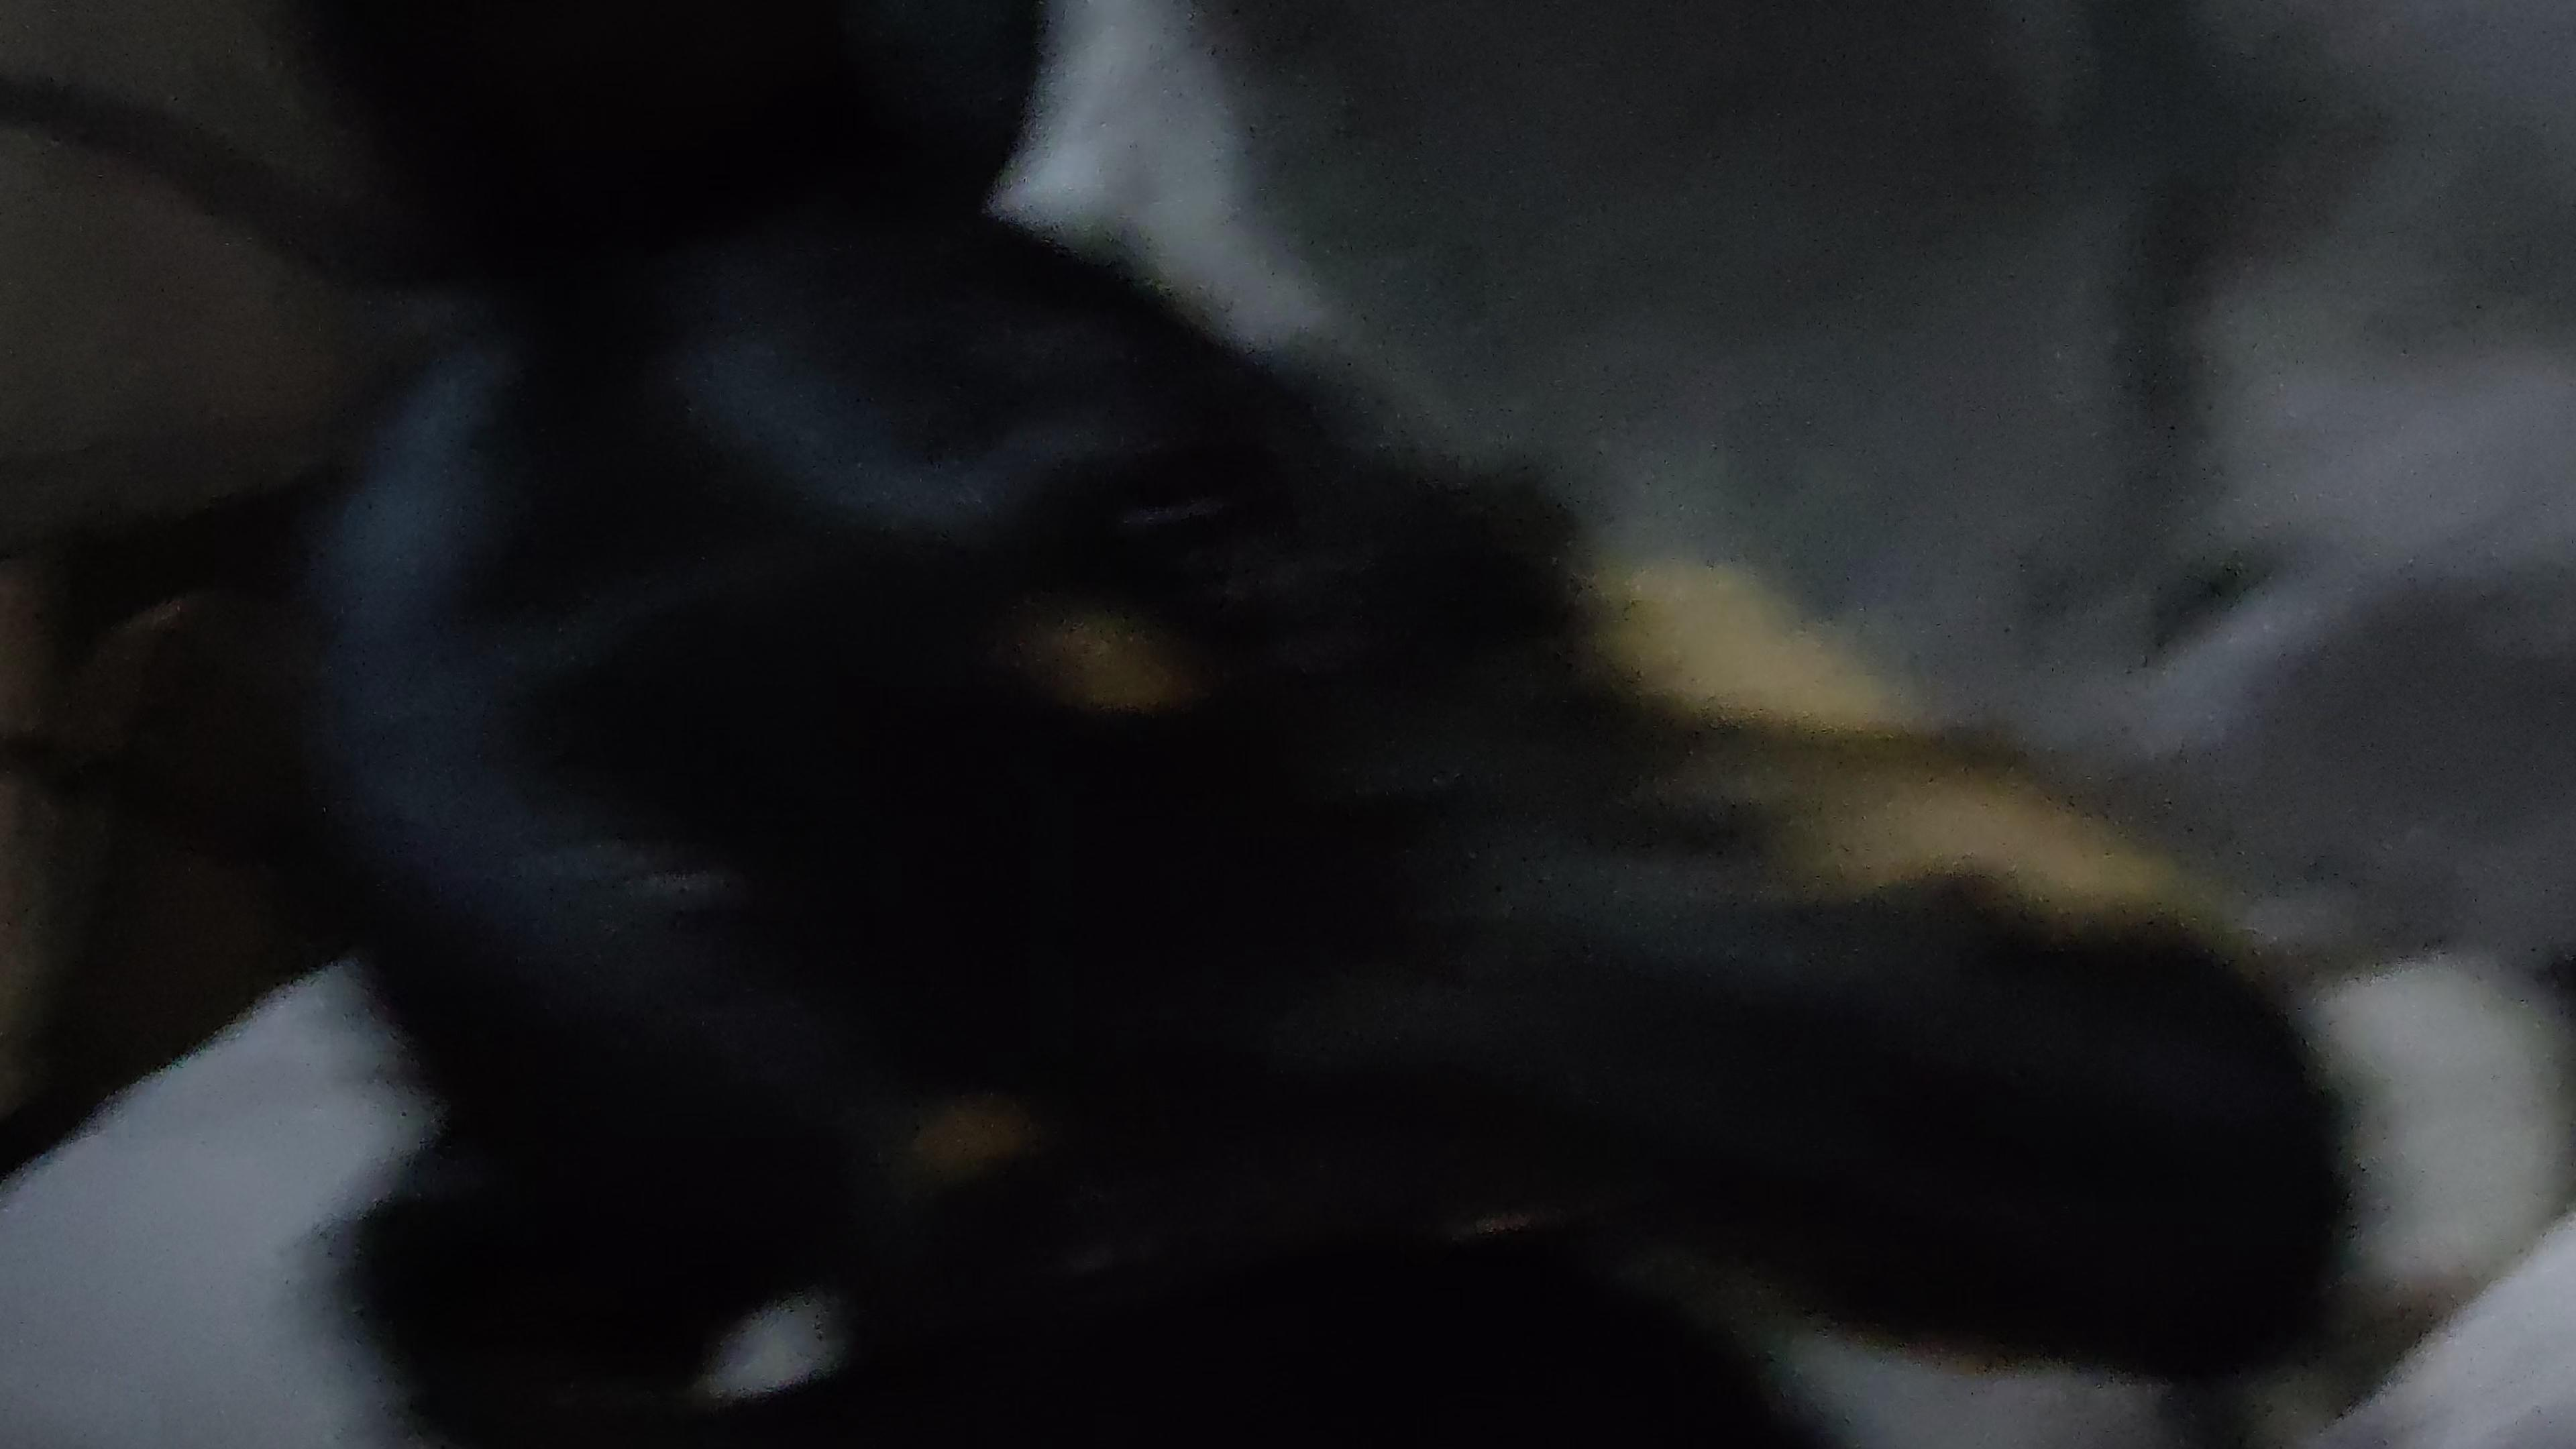Dog: (230, 0, 2576, 1449)
